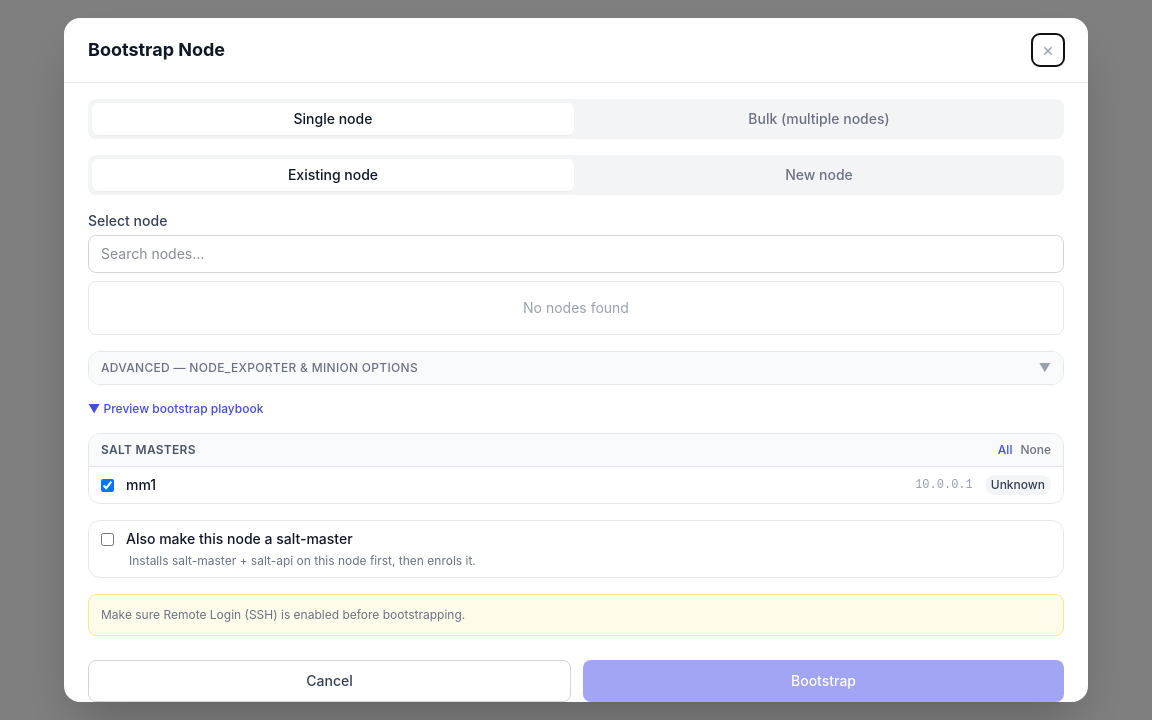
Scenario: BootstrapModal — Advanced options (issue #830) › expands advanced section when toggle is clicked
Step 1. Click the button "Advanced — node_exporter & minion options ▼" → (259, 368), box top-left (89, 352), bottom-right (1063, 384)
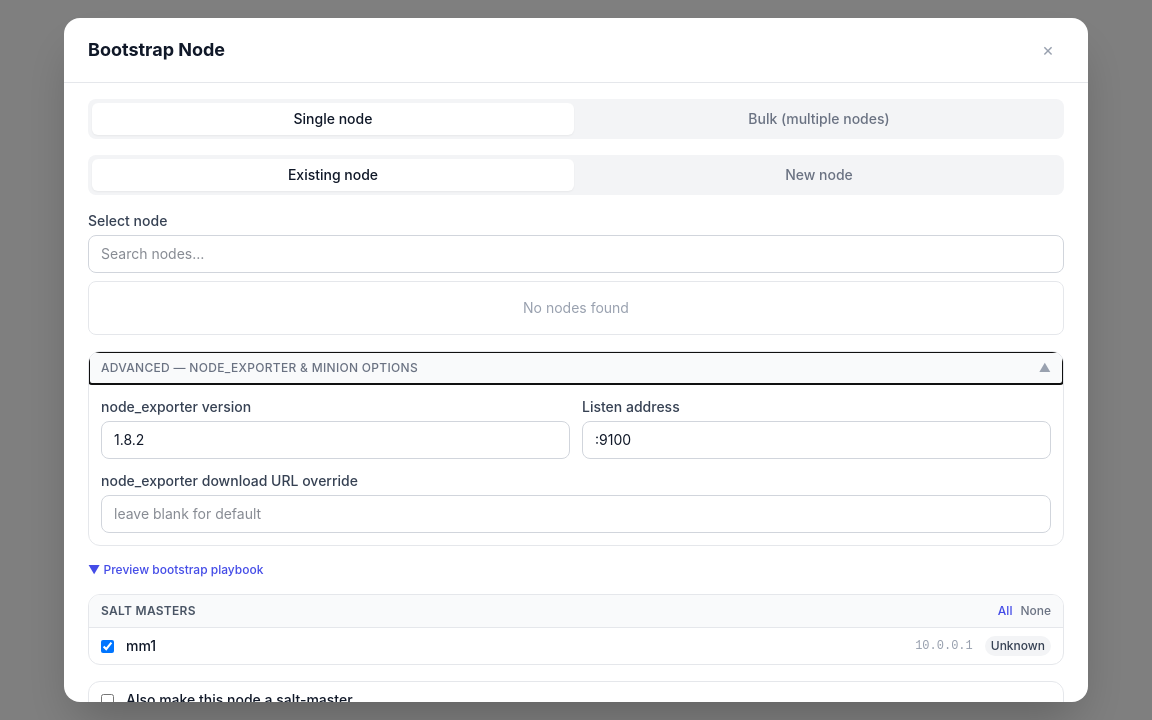
Now the field with placeholder "1.8.2" below "node_exporter version" is shown, box top-left (101, 421), bottom-right (570, 459)
Now the field with placeholder ":9100" below "Listen address" is shown, box top-left (582, 421), bottom-right (1051, 459)
